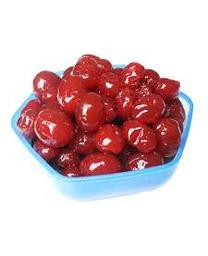cherry: (34, 108, 72, 147), (57, 74, 90, 115), (76, 95, 105, 133), (124, 120, 155, 152), (131, 93, 162, 121), (96, 126, 123, 157), (81, 152, 119, 174), (33, 71, 61, 96), (153, 74, 180, 99), (97, 69, 119, 95), (121, 67, 141, 88)
